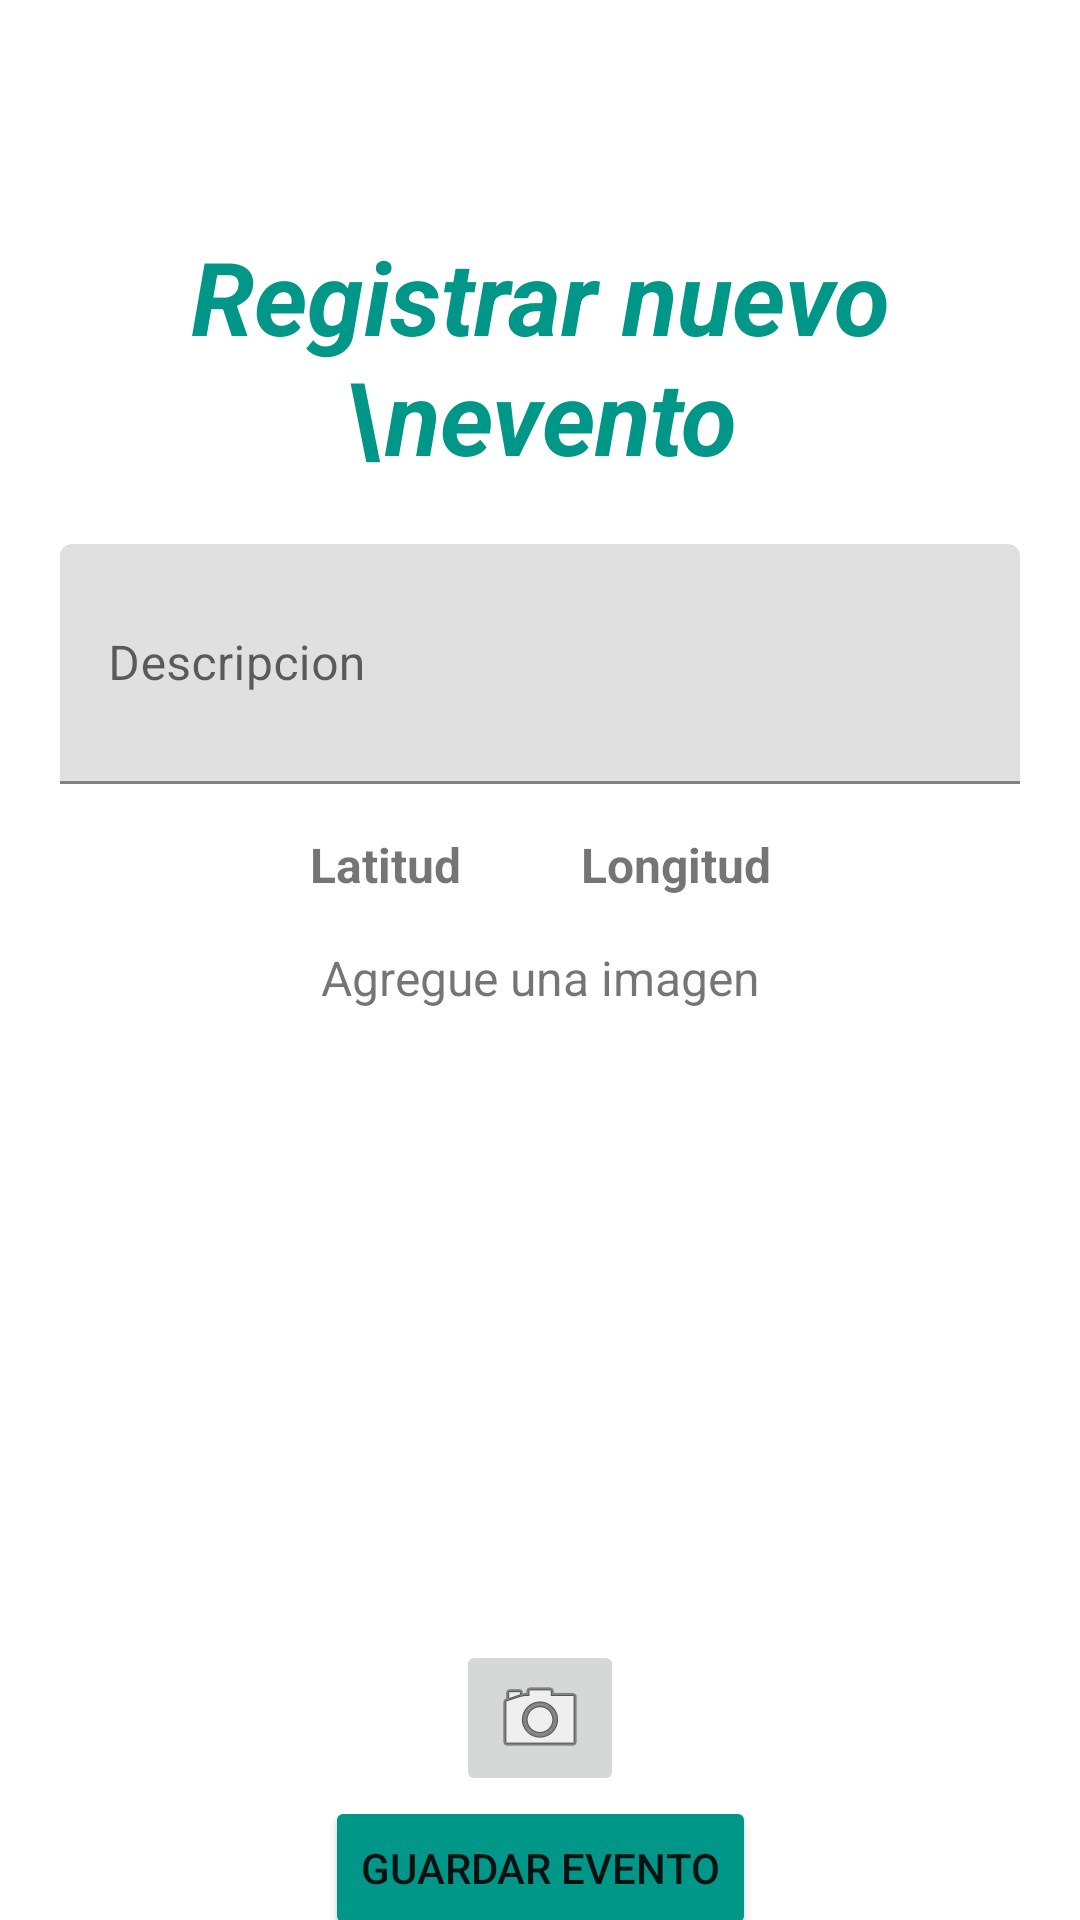

Named icons in this screenshot (1080×1920) and their bounding boxes, (x1,y1,x2,y2):
camera: (468,1658,612,1778)
